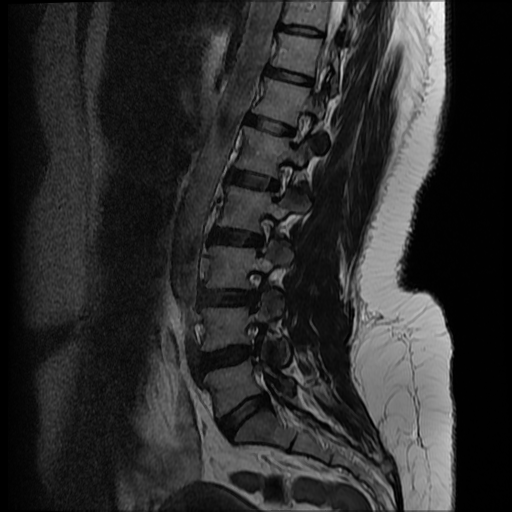LFS0: (248, 207, 280, 260), (266, 155, 299, 206)
LFS1: (237, 264, 271, 310)
